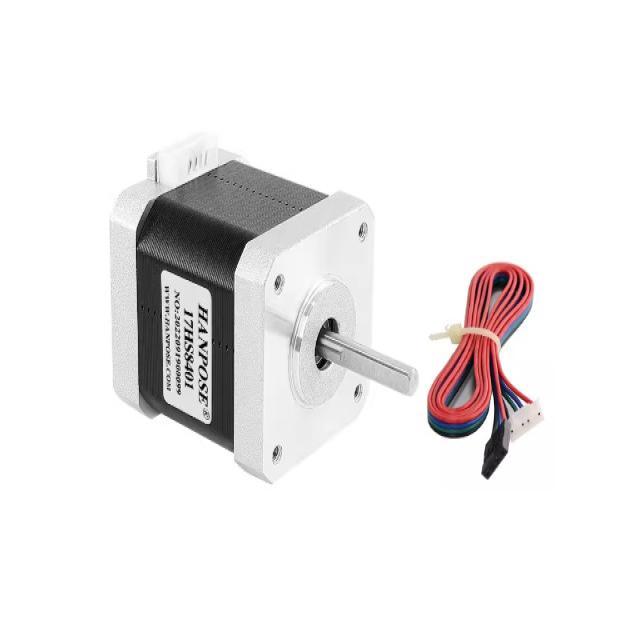motor: (94, 139, 434, 486)
